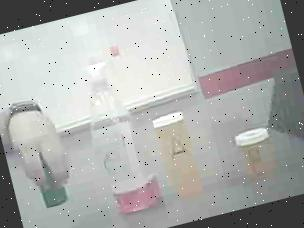Bottle A: (150, 106, 212, 208)
Bottle B: (230, 121, 284, 187)
Bottle C: (27, 144, 80, 220)
hazard: (72, 40, 171, 224)
